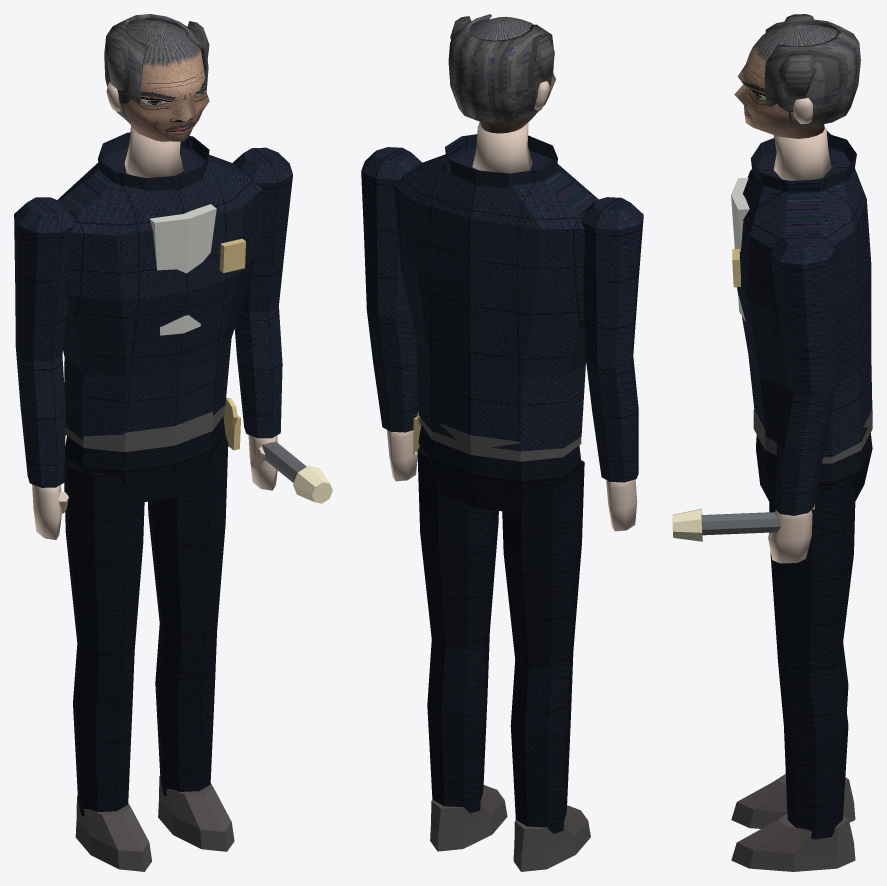
The model's file is char_varga.glb.
The picture shows the model from 3 angles, left to right: view 1: azimuth 30°, elevation 25°; view 2: azimuth 150°, elevation 25°; view 3: azimuth 270°, elevation 25°; orthographic projection.
Visible parts, largest first — view 1: JacketTorso, LegL_Pivot_Leg, LegR_Pivot_Leg, ArmSleeve_L, ArmSleeve_R, OrganicHeadMesh, Pelvis, ShirtCollar, LegR_Pivot_Boot, LegL_Pivot_Boot, Belt, HairRecedingBack (+8 smaller); view 2: JacketTorso, LegL_Pivot_Leg, LegR_Pivot_Leg, ArmSleeve_L, ArmSleeve_R, HairRecedingBack, Pelvis, LegL_Pivot_Boot, LegR_Pivot_Boot, JacketCollarRim, NeckOrganic, Belt (+4 smaller); view 3: JacketTorso, LegR_Pivot_Leg, ArmSleeve_R, HairRecedingBack, LegR_Pivot_Boot, OrganicHeadMesh, NeckOrganic, Pelvis, LegL_Pivot_Boot, JacketCollarRim, Hand_R, VargaFlashlightBody (+5 smaller).
Part boxes in pixels (x1,y1,x2,y2): JacketTorso: (58, 147, 262, 439); LegL_Pivot_Leg: (64, 457, 144, 815); LegR_Pivot_Leg: (148, 434, 228, 795); ArmSleeve_L: (14, 197, 75, 487); ArmSleeve_R: (233, 147, 292, 438); OrganicHeadMesh: (119, 19, 209, 141); Pelvis: (65, 416, 225, 504); ShirtCollar: (149, 204, 216, 335); LegR_Pivot_Boot: (158, 776, 234, 851); LegL_Pivot_Boot: (75, 796, 151, 871); Belt: (65, 405, 224, 452); HairRecedingBack: (104, 14, 208, 122); JacketTorso: (394, 147, 598, 451); LegL_Pivot_Leg: (502, 460, 584, 833); LegR_Pivot_Leg: (417, 446, 498, 813); ArmSleeve_L: (580, 197, 643, 482); ArmSleeve_R: (361, 147, 421, 432); HairRecedingBack: (448, 14, 553, 122); Pelvis: (418, 425, 581, 513); LegL_Pivot_Boot: (513, 805, 590, 871); LegR_Pivot_Boot: (430, 785, 507, 851); JacketCollarRim: (445, 134, 557, 187); NeckOrganic: (472, 122, 531, 173); Belt: (419, 417, 581, 461); JacketTorso: (737, 147, 872, 457); LegR_Pivot_Leg: (769, 476, 855, 839); ArmSleeve_R: (769, 229, 836, 515); HairRecedingBack: (764, 19, 860, 127); LegR_Pivot_Boot: (731, 813, 855, 871); OrganicHeadMesh: (734, 24, 837, 138); NeckOrganic: (773, 127, 831, 180); Pelvis: (756, 433, 872, 501); LegL_Pivot_Boot: (731, 774, 855, 828); JacketCollarRim: (750, 133, 856, 192); Hand_R: (768, 510, 812, 563); VargaFlashlightBody: (701, 512, 781, 535).
Size of the model in its own units: 0.6498 by 1.85 by 0.4113.
Materials: 11 (4 with a texture image).
